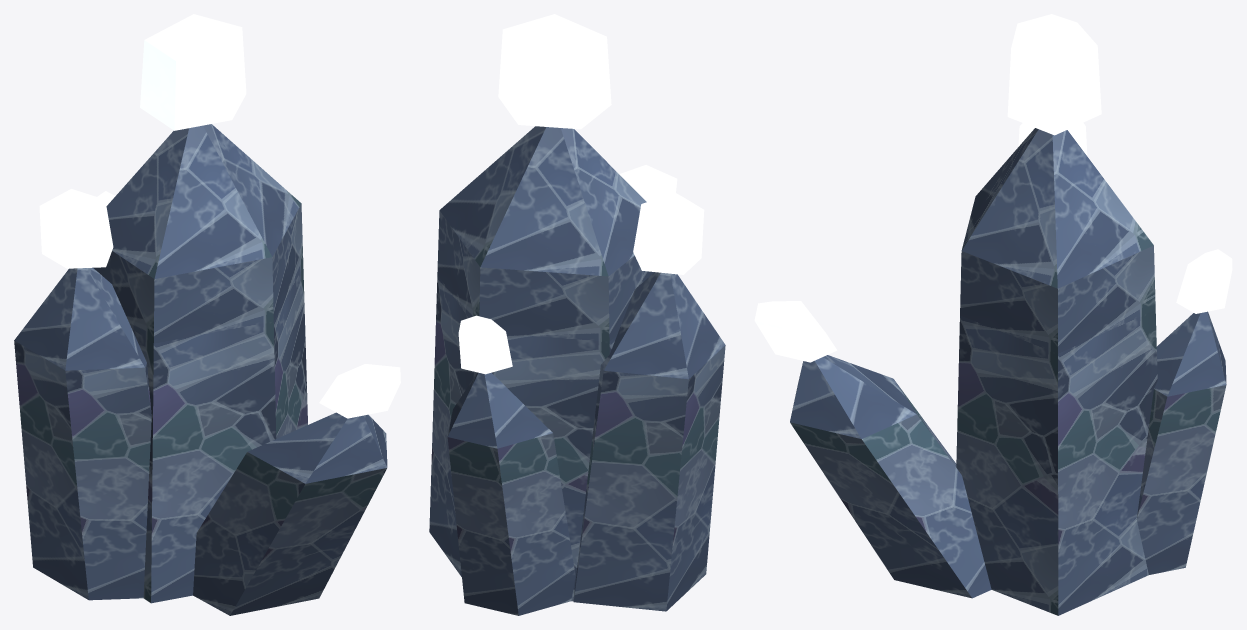
The model's file is Oracle_Crystal_Cluster_2_LOD2.gltf.
3 renders of one model, left to right at view 1: azimuth 30°, elevation 25°; view 2: azimuth 150°, elevation 25°; view 3: azimuth 270°, elevation 25°, orthographic.
Visible parts, largest first — view 1: Oracle_Crystal_Cluster_2_LOD2; view 2: Oracle_Crystal_Cluster_2_LOD2; view 3: Oracle_Crystal_Cluster_2_LOD2.
Boxes of the visible parts, x1,y1,x2,y2 form: Oracle_Crystal_Cluster_2_LOD2: [14, 14, 400, 615]; Oracle_Crystal_Cluster_2_LOD2: [429, 14, 725, 615]; Oracle_Crystal_Cluster_2_LOD2: [754, 14, 1232, 615].
Bounding box in the file's own units: 3.41 × 6.34 × 5.06.
Materials: 2 (2 with a texture image).
